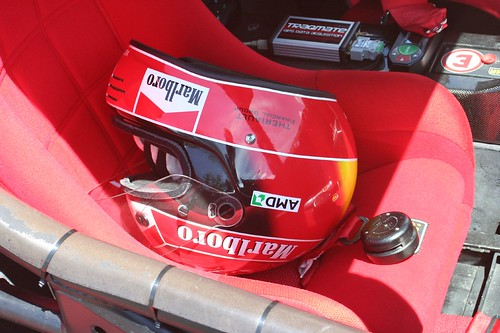helmet: (80, 29, 353, 285)
